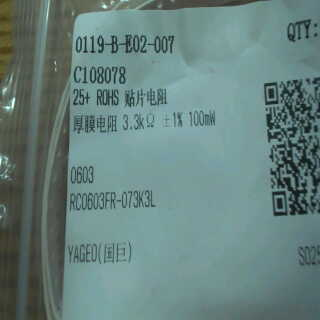3.3kO: (119, 110, 161, 135)
